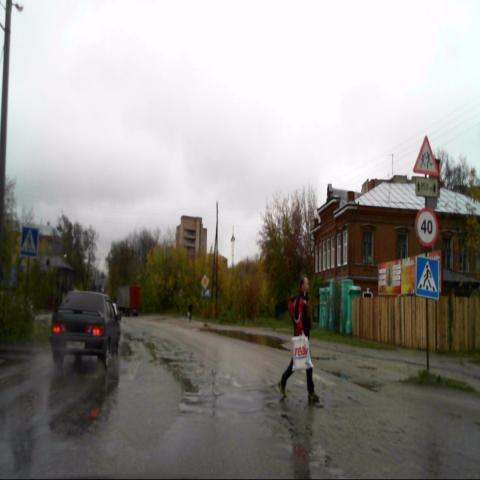8_2_1: (415, 177, 439, 197)
